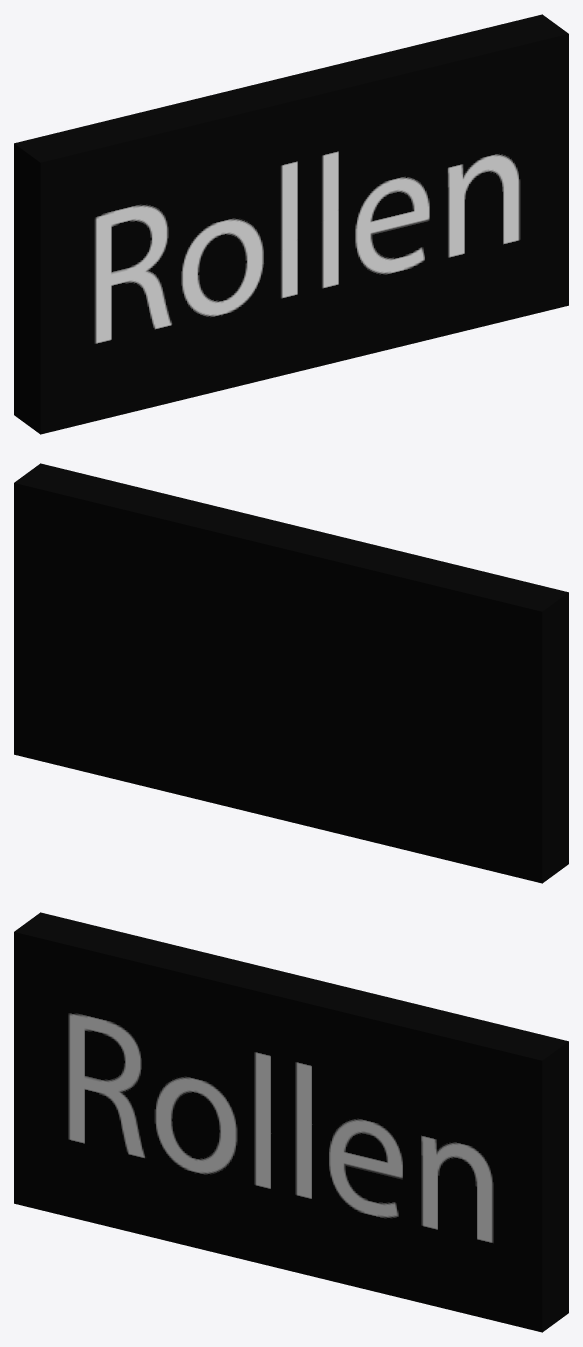
The model's file is info_button_2.gltf.
The picture shows the model from 3 angles, top to bottom: view 1: azimuth 30°, elevation 25°; view 2: azimuth 150°, elevation 25°; view 3: azimuth 330°, elevation 25°; orthographic projection.
Visible parts, largest first — view 1: Cube; view 2: Cube; view 3: Cube.
Boxes of the visible parts, x1,y1,x2,y2 form: Cube: (14, 14, 568, 434); Cube: (14, 463, 568, 883); Cube: (14, 912, 568, 1332).
Bounding box in the file's own units: 0.206 × 0.1012 × 0.0179.
Materials: 1 (1 with a texture image).
